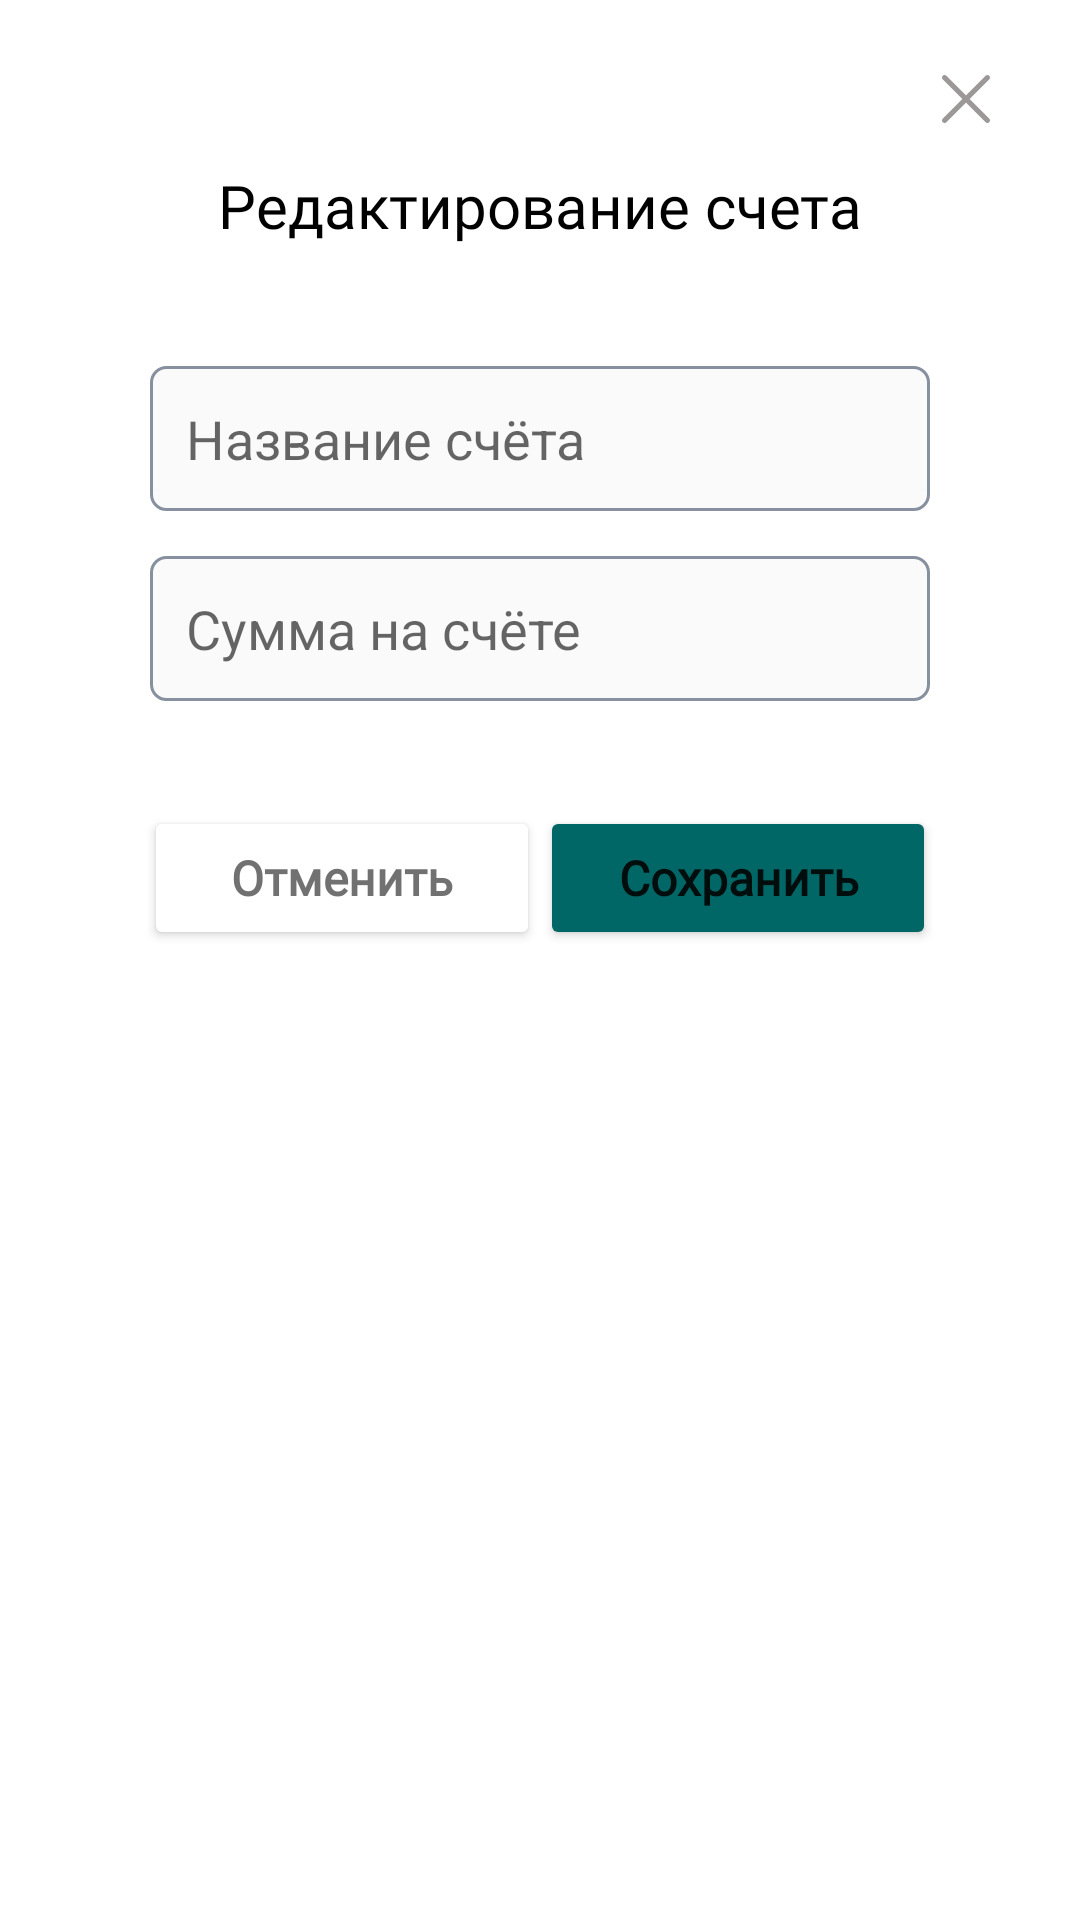

Where icons sit on this 1080x1920 app screen, as (x1, y1, x2, y2):
close: (942, 75, 990, 123)
